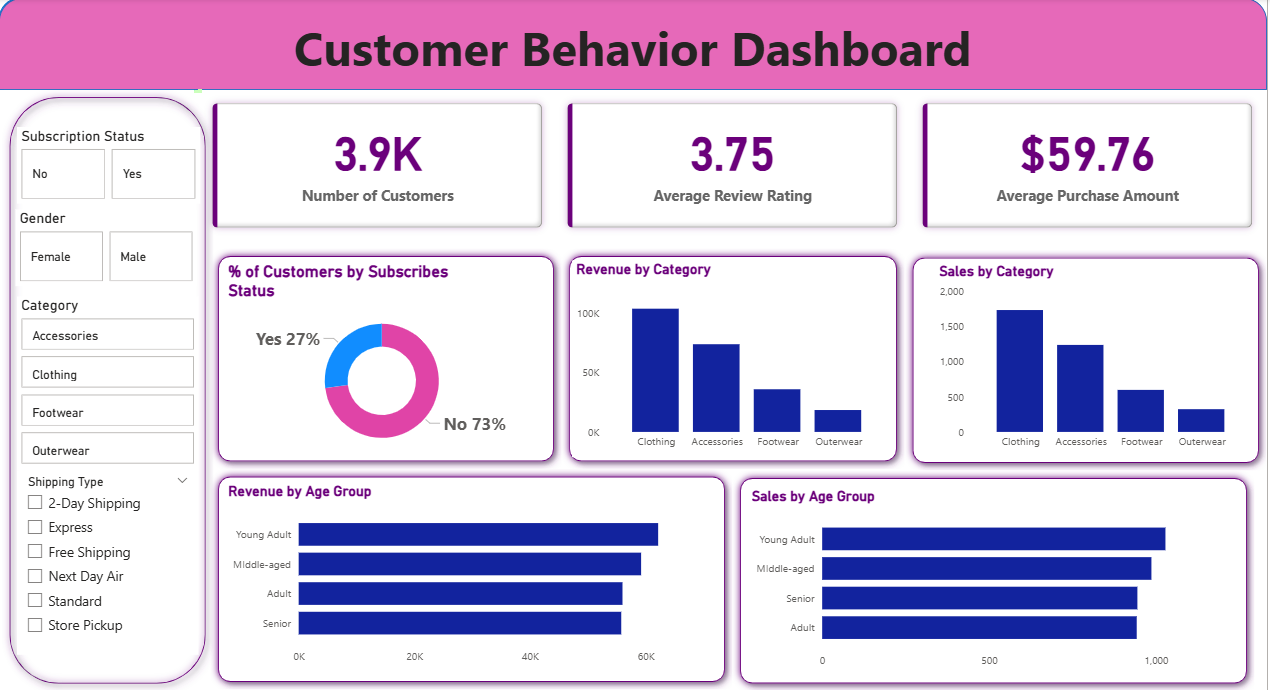

What the dashboard file says about the page in this screenshot:
{"tool":"powerbi","page":{"name":"Page 1","canvas":[1500,820],"ordinal":0},"visuals":[{"type":"cardVisual","fields":{"Data":["customer.Number of Customers","customer.Average Review Rating","customer.Average Purchase Amount"]},"box":[235.5,108.7,1264.4,179.3],"z":0},{"type":"shape","box":[0,0,1280.4,95.4],"z":1000},{"type":"textbox","box":[0,14.3,1280.4,65.2],"z":2000},{"type":"shape","box":[250.2,296.3,415.2,260.8],"z":3000},{"type":"shape","box":[0,0,1499.9,108.7],"z":4000},{"type":"textbox","box":[0,14.5,1499.9,94.2],"z":5000},{"type":"donutChart","title":"% of Customers by Subscribes Status","fields":{"Category":["customer.subscription_status"],"Y":["CountNonNull(customer.customer_id)"]},"box":[266.2,312.3,372.6,232.5],"z":6000},{"type":"shape","box":[664.8,297.1,405.8,260.9],"z":7000},{"type":"shape","box":[1071.8,298.1,427.6,260.8],"z":8000},{"type":"clusteredColumnChart","title":"Revenue by Category","fields":{"Y":["Sum(customer.purchase_amount)"],"Category":["customer.category"]},"box":[677.8,310.5,378,232.5],"z":9000},{"type":"clusteredColumnChart","title":"Sales by Category","fields":{"Category":["customer.category"],"Y":["CountNonNull(customer.customer_id)"]},"box":[1107.3,312.3,378,230.7],"z":10000},{"type":"shape","box":[3.6,108.7,250,711.9],"z":10001},{"type":"advancedSlicerVisual","fields":{"Values":["customer.subscription_status"]},"box":[21.3,152.6,216.5,90.5],"z":10002},{"type":"advancedSlicerVisual","fields":{"Values":["customer.gender"]},"box":[19.5,250.2,214.7,90.5],"z":10003},{"type":"advancedSlicerVisual","fields":{"Values":["customer.category"]},"box":[21.3,353.1,214.7,205.8],"z":10004},{"type":"slicer","fields":{"Values":["customer.shipping_type"]},"box":[21.3,559,214.7,218.3],"z":10005},{"type":"shape","box":[250.2,557.2,617.5,260.8],"z":10007},{"type":"clusteredBarChart","title":"Revenue by Age Group","fields":{"Category":["customer.age_group"],"Y":["Sum(customer.purchase_amount)"]},"box":[266.2,573.2,582,223.6],"z":10008},{"type":"shape","box":[867.7,559,617.5,260.8],"z":10009},{"type":"clusteredBarChart","title":"Sales by Age Group","fields":{"Category":["customer.age_group"],"Y":["CountNonNull(customer.customer_id)"]},"box":[885.5,578.5,582,223.6],"z":10010}]}

Visuals, with their boxes in screenshot pixels (x1, y1, x2, y2), scaled from the page's 1500x820 canvas onto the 1270x690 screenshot:
cardVisual - customer.Number of Customers x customer.Average Review Rating: (199, 91, 1269, 242)
shape: (0, 0, 1084, 80)
textbox: (0, 12, 1084, 67)
shape: (212, 249, 563, 469)
shape: (0, 0, 1269, 91)
textbox: (0, 12, 1269, 91)
"% of Customers by Subscribes Status" donutChart: (225, 263, 541, 458)
shape: (563, 250, 906, 470)
shape: (907, 251, 1269, 470)
"Revenue by Category" clusteredColumnChart: (574, 261, 894, 457)
"Sales by Category" clusteredColumnChart: (938, 263, 1258, 457)
shape: (3, 91, 215, 689)
advancedSlicerVisual - customer.subscription_status: (18, 128, 201, 205)
advancedSlicerVisual - customer.gender: (17, 211, 198, 287)
advancedSlicerVisual - customer.category: (18, 297, 200, 470)
slicer - customer.shipping_type: (18, 470, 200, 654)
shape: (212, 469, 735, 688)
"Revenue by Age Group" clusteredBarChart: (225, 482, 718, 670)
shape: (735, 470, 1257, 689)
"Sales by Age Group" clusteredBarChart: (750, 487, 1242, 675)
